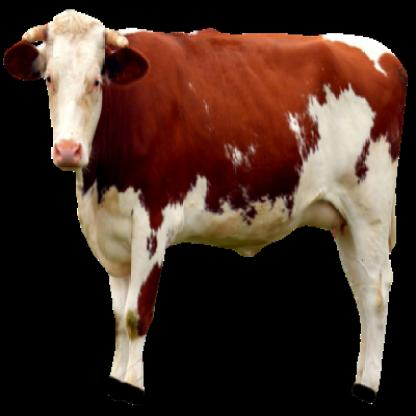lower: (56, 167, 82, 171)
mouth: (50, 139, 91, 177)
upper: (62, 149, 73, 160)
